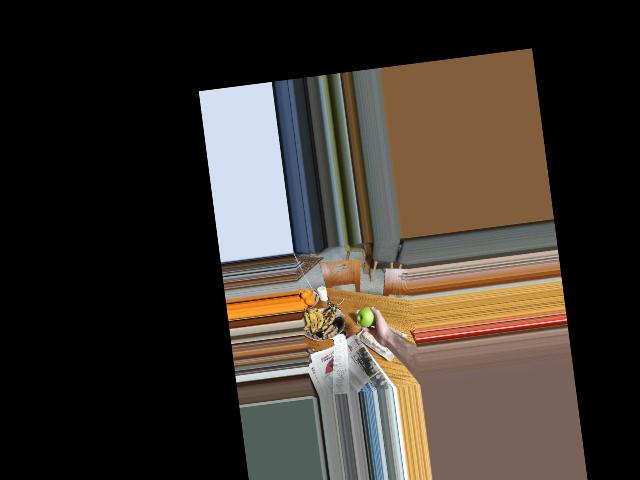apple: (356, 304, 379, 330)
